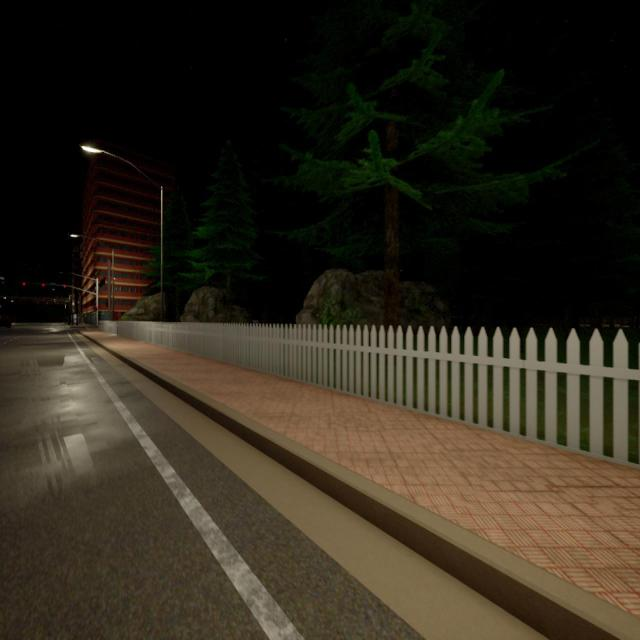Vehicle: (0, 307, 12, 329)
traffic_light: (22, 282, 26, 286), (96, 305, 98, 312), (41, 284, 44, 286), (64, 285, 66, 288), (46, 302, 48, 304), (57, 302, 59, 304)
